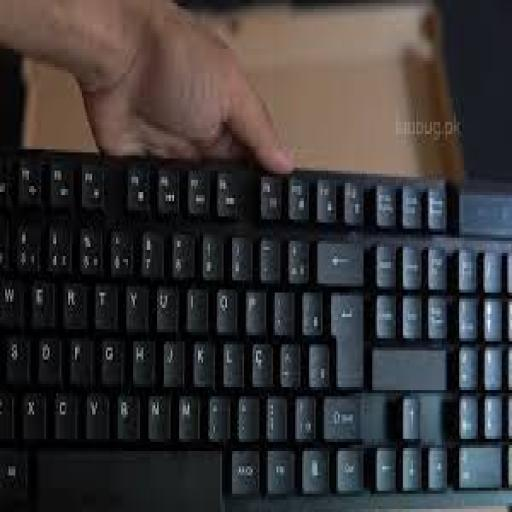KEYBOARD-2: (0, 149, 510, 509)
